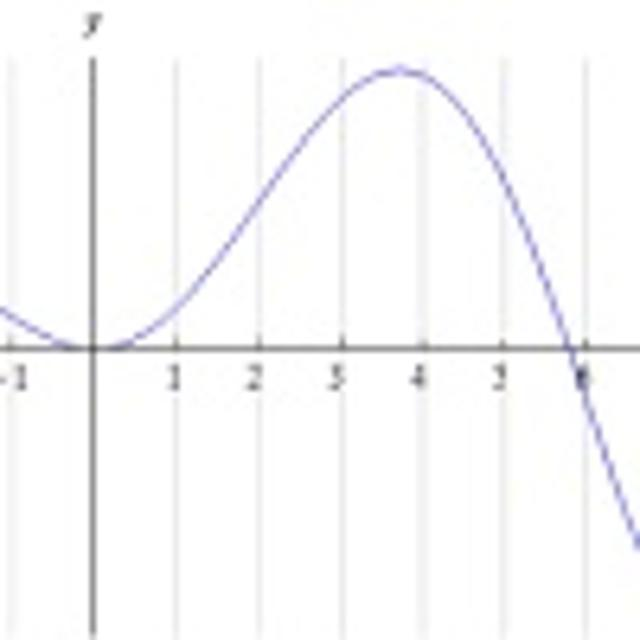axis: (0, 331, 640, 357), (85, 55, 103, 639)
